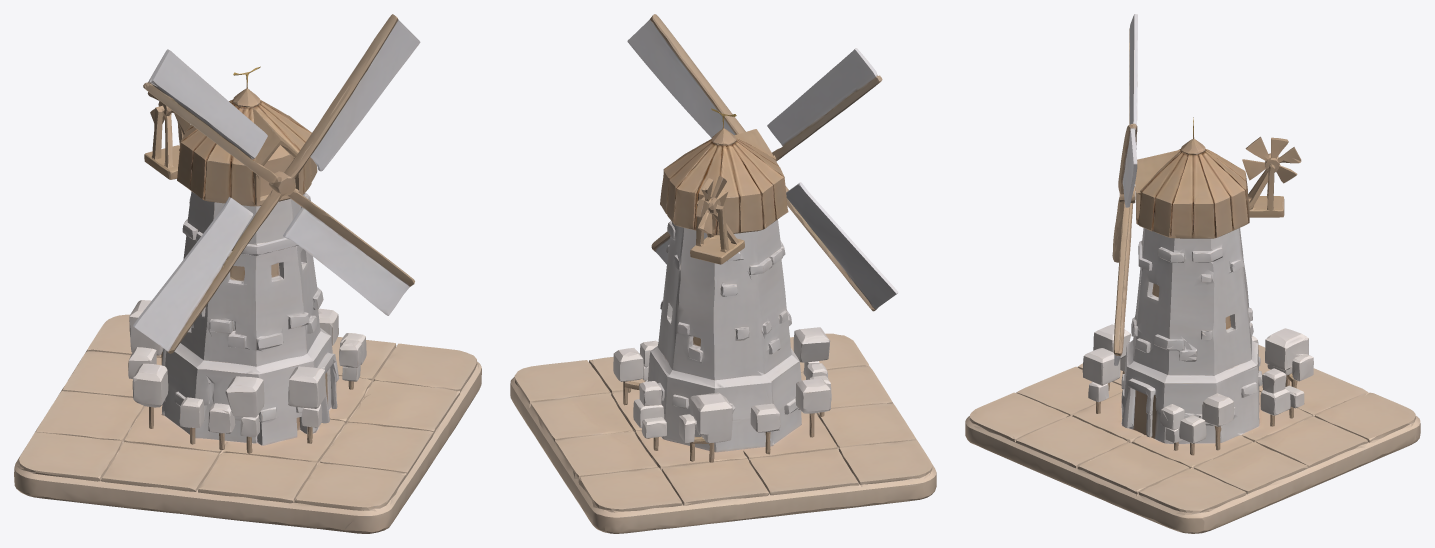
Rendered from giantWindmill.fbx.
3 renders of one model, left to right at view 1: azimuth 30°, elevation 25°; view 2: azimuth 150°, elevation 25°; view 3: azimuth 270°, elevation 25°, orthographic. The views are drawn at different scales.
Visible parts, largest first — view 1: model; view 2: model; view 3: model.
Boxes of the visible parts, <box> form: model: <box>14,14,481,533</box>; model: <box>510,14,936,533</box>; model: <box>965,14,1420,533</box>.
Size of the model in its own units: 189 by 172 by 189.
1 material, 1 textured.
